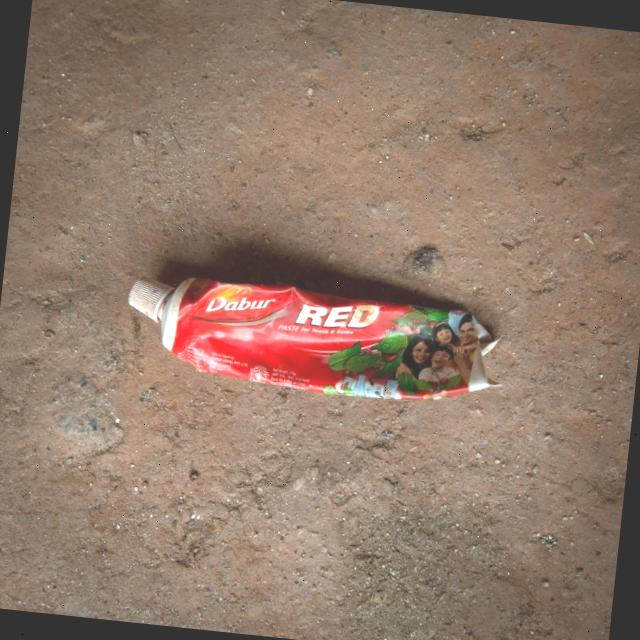Toothpaste: (116, 255, 514, 416)
